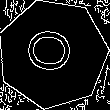O_E: (24, 29, 82, 79)
